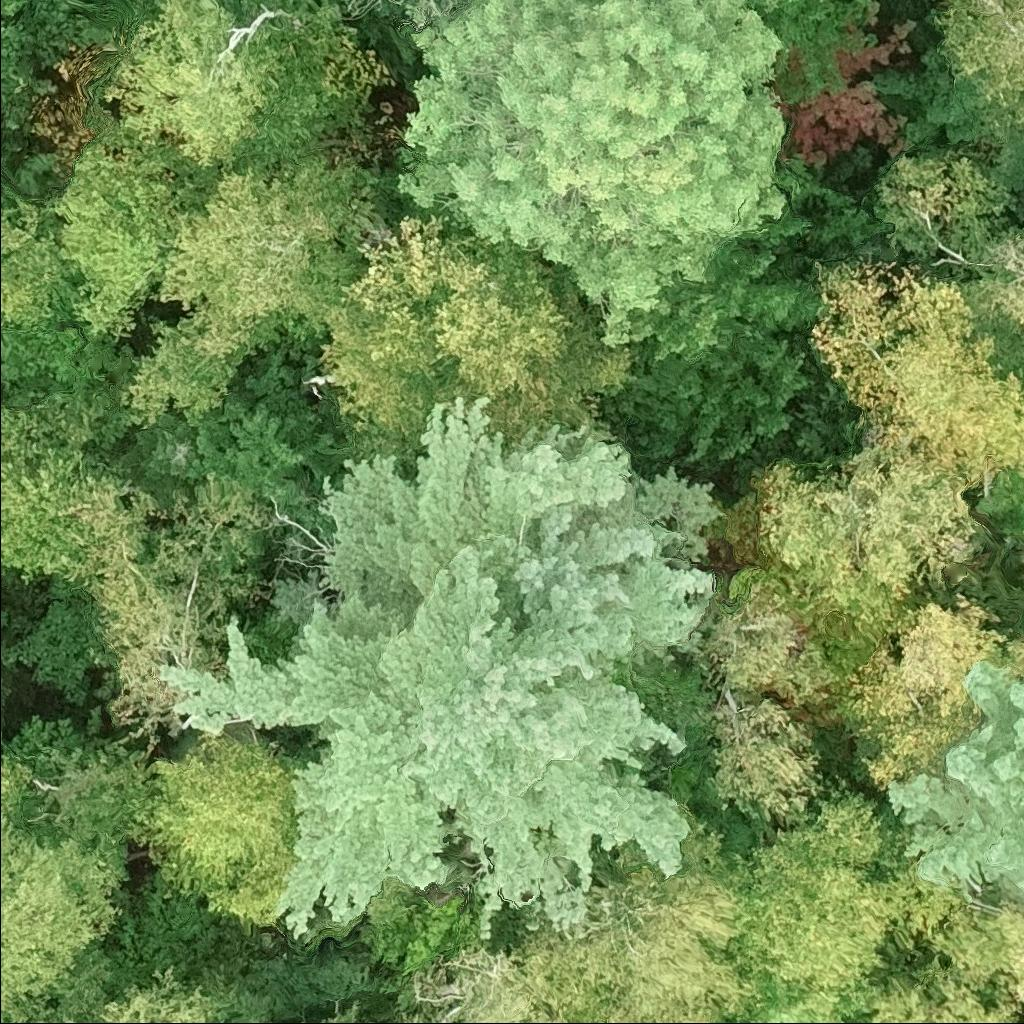crown: (156, 393, 731, 940), (394, 0, 791, 349), (313, 203, 643, 464), (120, 150, 395, 426), (419, 815, 758, 1023), (63, 472, 268, 742), (806, 254, 1023, 481), (105, 0, 357, 177), (760, 447, 990, 640), (828, 593, 1023, 801), (43, 125, 217, 343), (735, 797, 912, 1010), (122, 720, 300, 929), (884, 654, 1023, 894), (0, 816, 139, 1023), (0, 388, 102, 582), (855, 909, 1023, 1023), (694, 695, 823, 827), (877, 152, 1016, 260), (929, 0, 1023, 141), (752, 0, 875, 98), (0, 195, 87, 332), (689, 600, 806, 696), (108, 410, 196, 520), (965, 222, 1023, 355), (108, 972, 242, 1023), (710, 979, 864, 1023), (0, 724, 39, 820), (331, 0, 381, 16), (0, 667, 14, 714), (56, 1015, 79, 1023), (362, 1022, 380, 1023)
